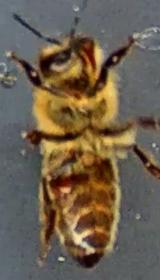varroa_mite: (42, 166, 88, 202)
